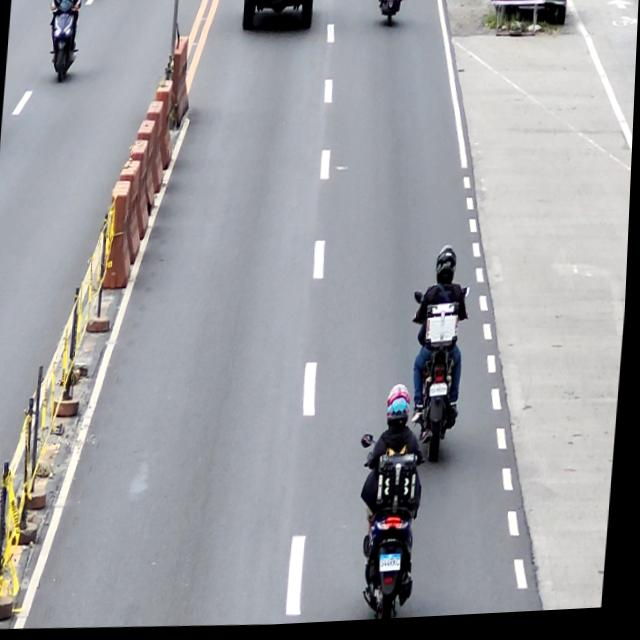License-Plate: (384, 557, 406, 578), (432, 387, 452, 403)
Motorcycle: (352, 432, 436, 625), (406, 291, 474, 470)
